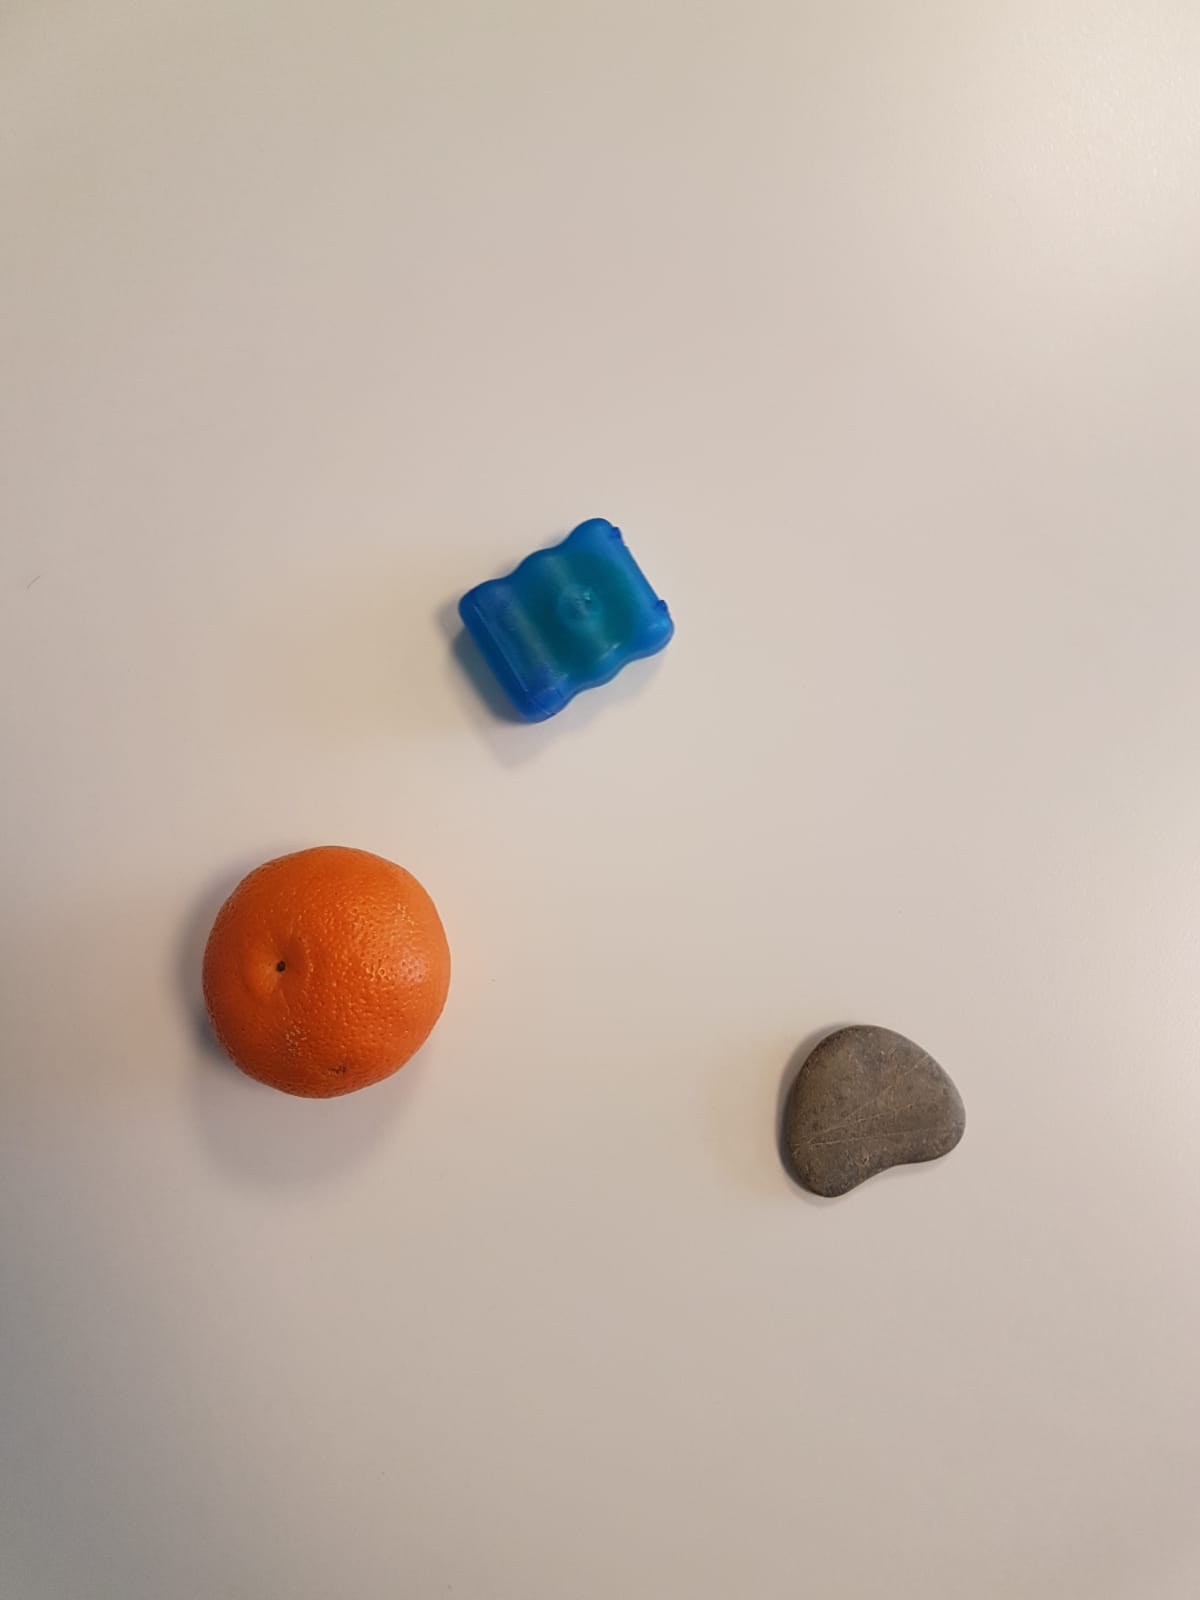Box: (456, 520, 679, 728)
Orange: (202, 847, 453, 1101)
Stone: (782, 1028, 968, 1199)
